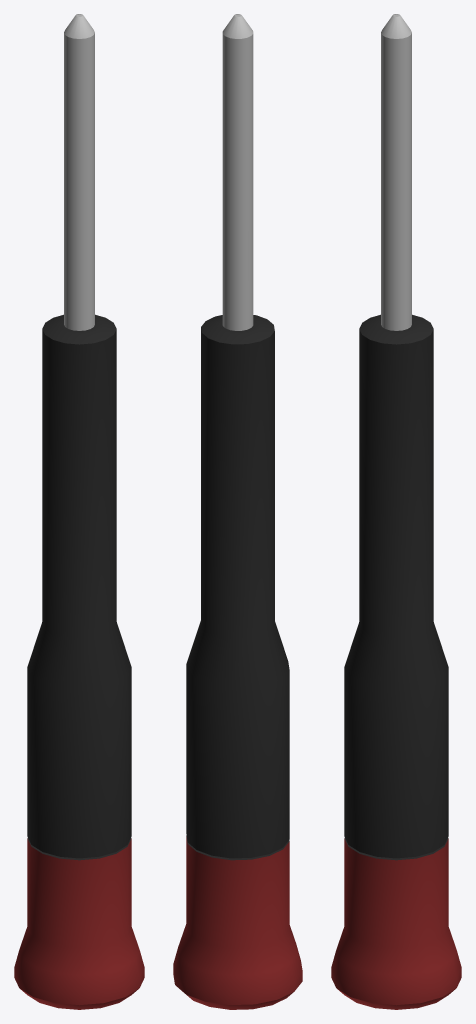
File: Destornillador.fbx
3 views of the same model, side by side, from view 1: azimuth 90°, elevation 25°; view 2: azimuth 150°, elevation 25°; view 3: azimuth 270°, elevation 25° (orthographic).
Visible parts, largest first — view 1: Destornillador.001, Destornillador.002, Destornillador; view 2: Destornillador.001, Destornillador.002, Destornillador; view 3: Destornillador.001, Destornillador.002, Destornillador.
Part boxes in pixels (x1,y1,x2,y2): Destornillador.001: (27,314,131,860); Destornillador.002: (14,838,144,1009); Destornillador: (64,14,94,330); Destornillador.001: (186,315,289,860); Destornillador.002: (173,836,302,1009); Destornillador: (222,14,253,330); Destornillador.001: (344,314,448,860); Destornillador.002: (331,838,461,1009); Destornillador: (381,14,411,330).
Bounding box in the file's own units: 1.61 × 13.2 × 1.61.
